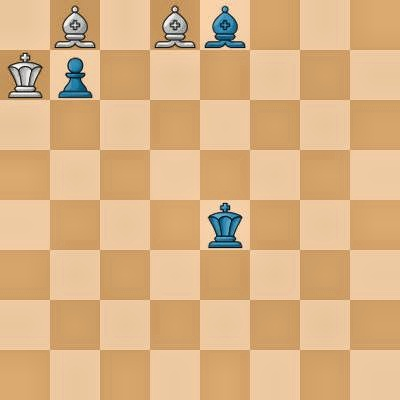black-bishop: (200, 0, 250, 50)
black-king: (200, 200, 250, 250)
black-pawn: (50, 50, 100, 100)
white-bishop: (50, 0, 100, 50), (150, 0, 200, 50)
white-king: (0, 50, 50, 100)
